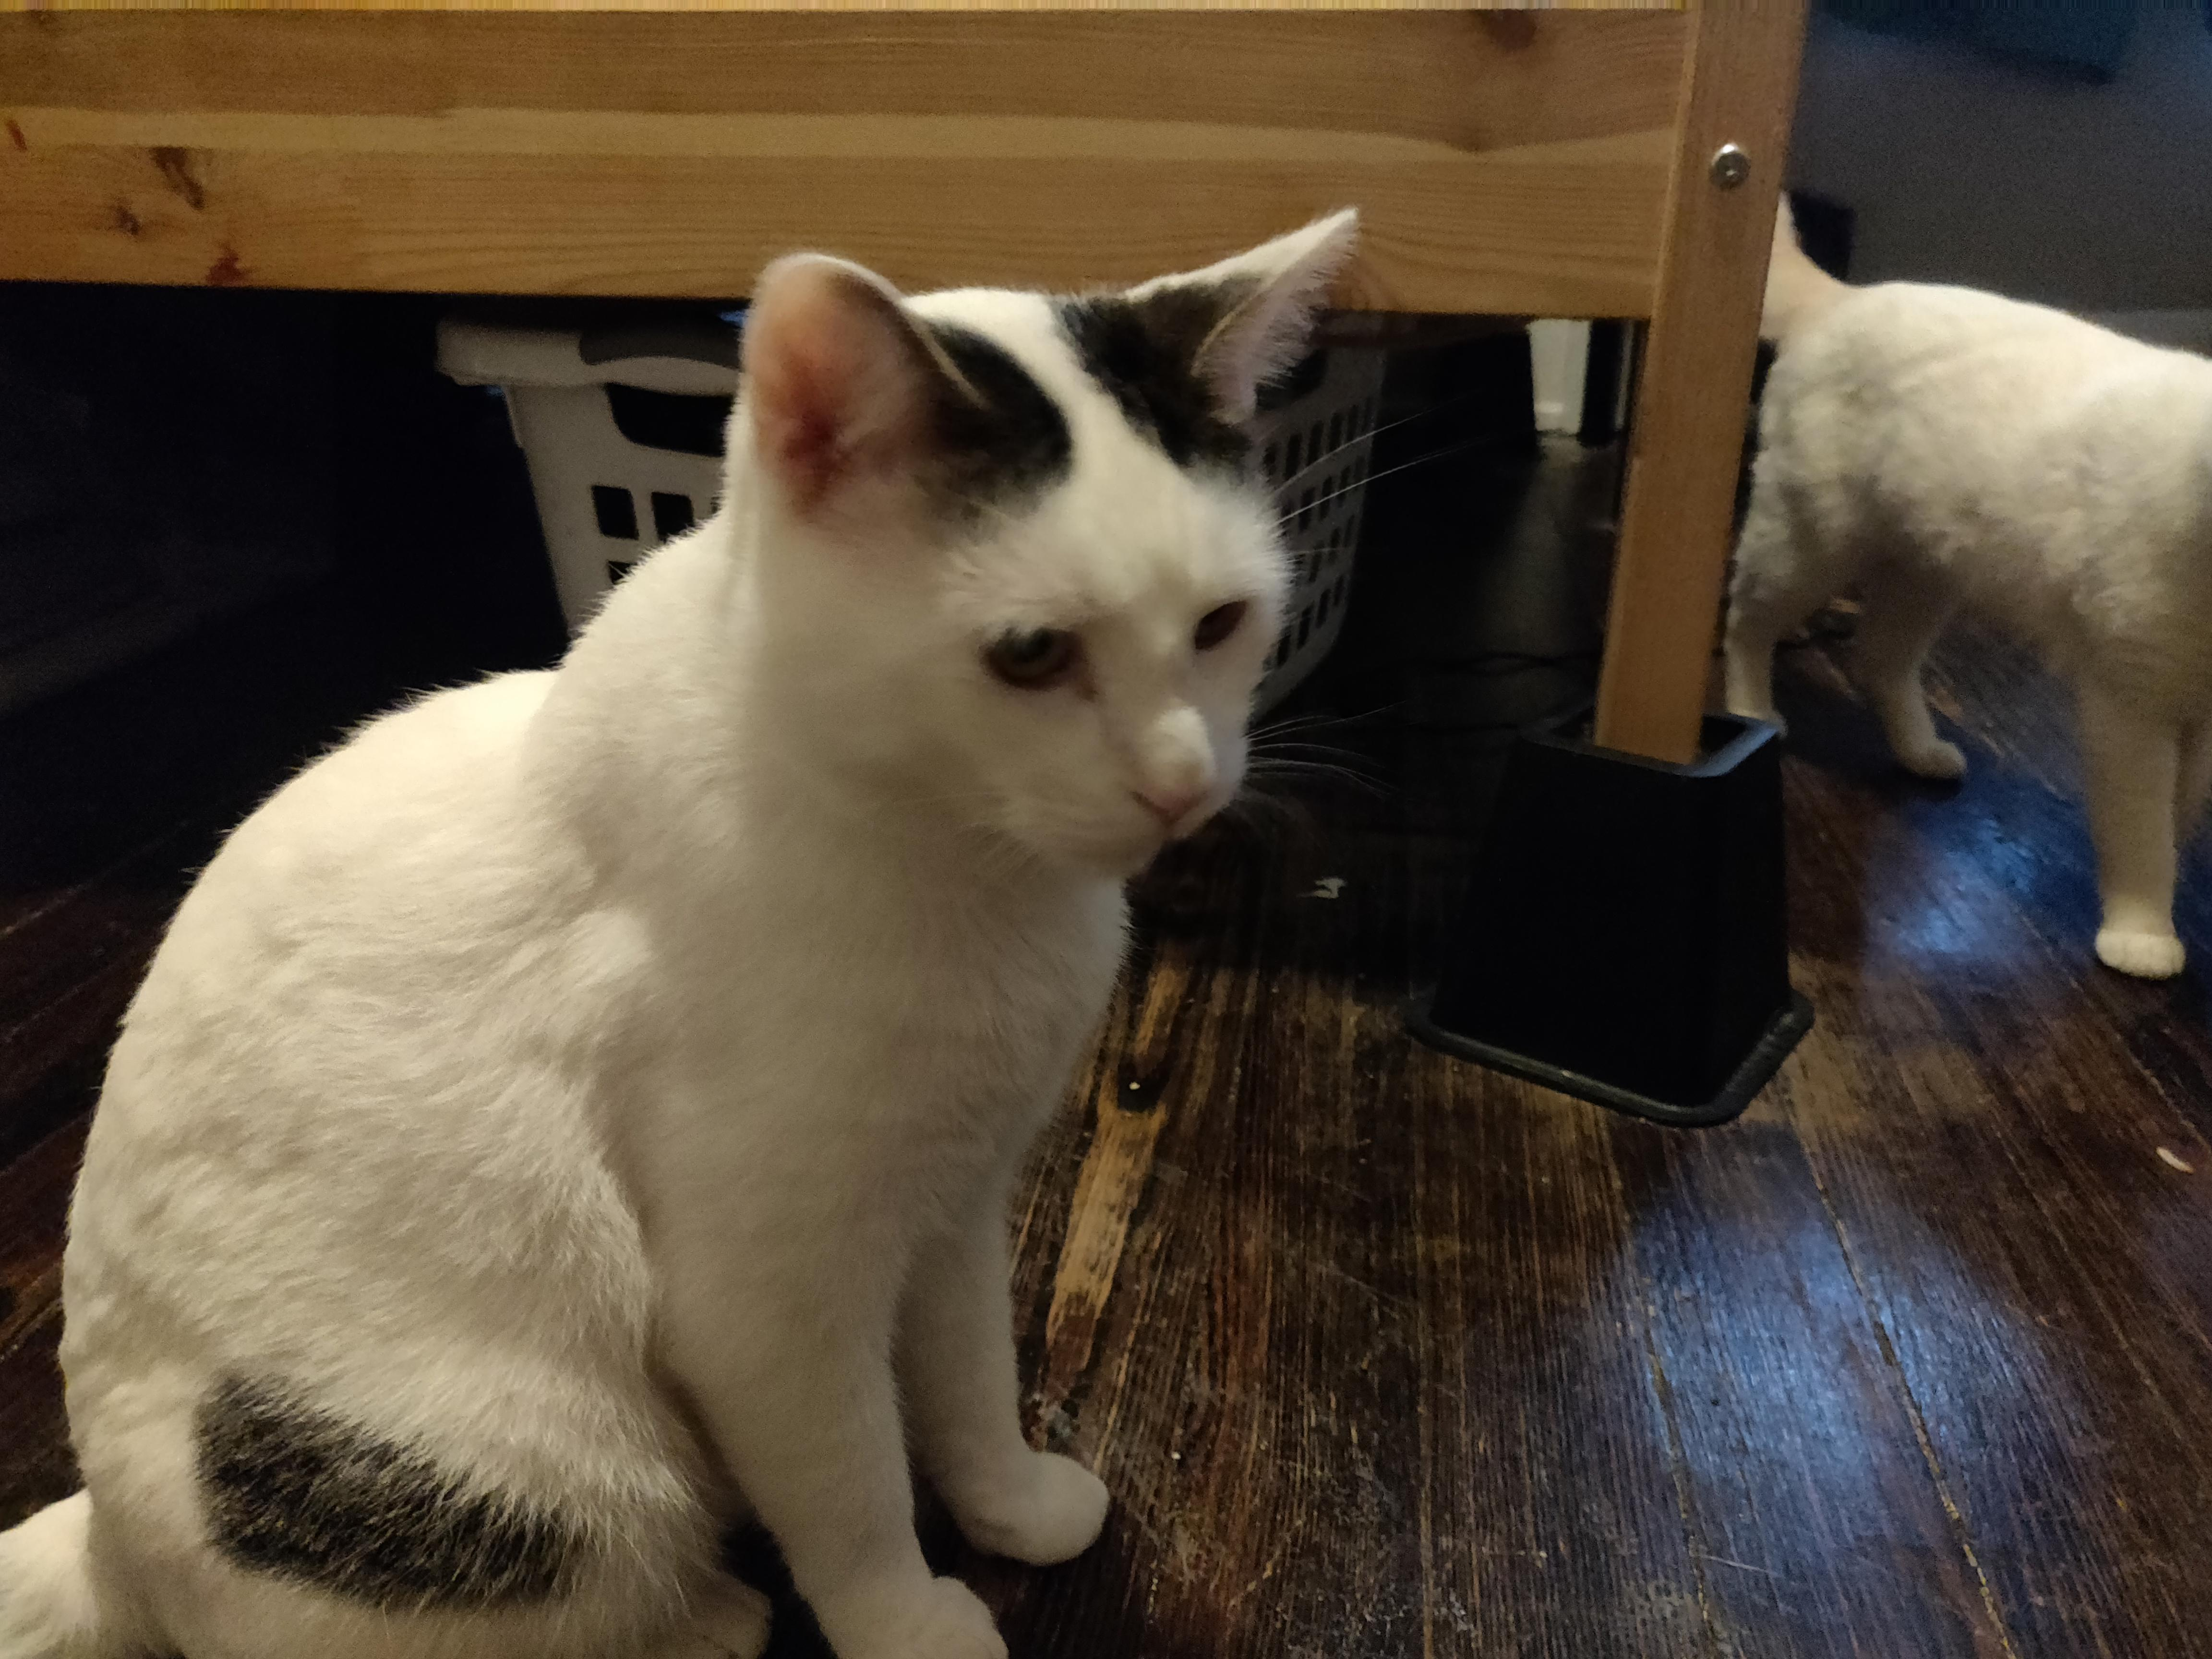cat: (4, 212, 1361, 1659), (1762, 186, 2212, 962)
